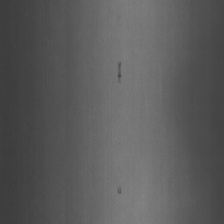oil_spot: (115, 58, 125, 91), (114, 180, 123, 197)
